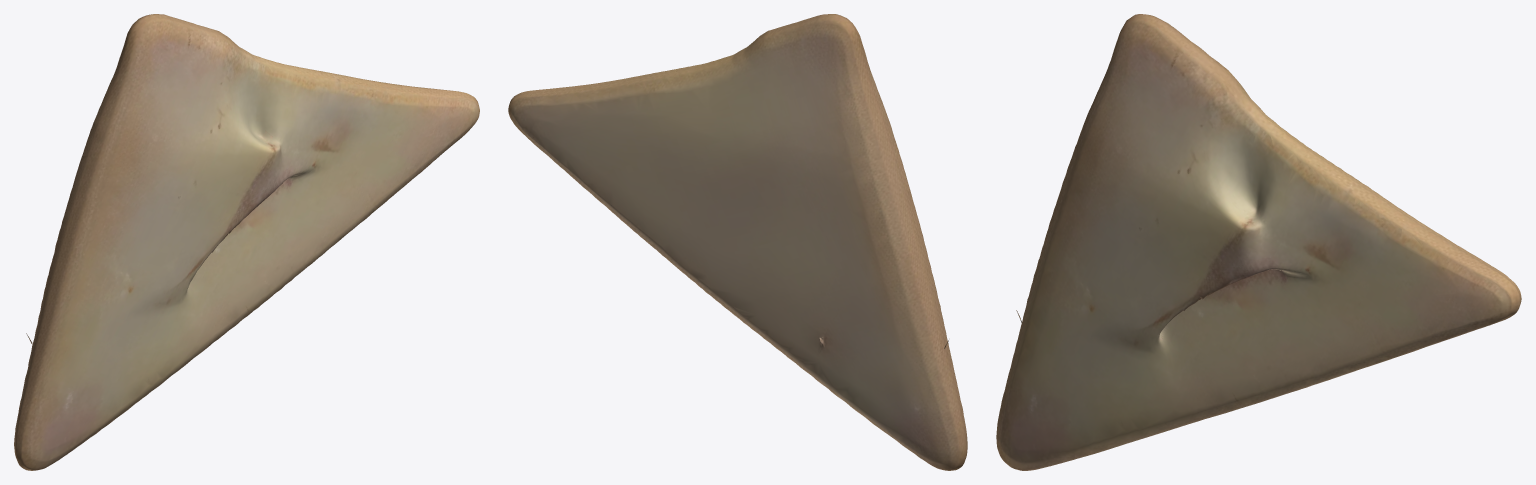
File: dog-scapula.glb
3 renders of one model, left to right at view 1: azimuth 30°, elevation 25°; view 2: azimuth 150°, elevation 25°; view 3: azimuth 330°, elevation 25°, orthographic. The views are drawn at different scales.
Parts seen in each view (by area): view 1: model; view 2: model; view 3: model.
Boxes of the visible parts, x1,y1,x2,y2 form: model: [14, 14, 479, 470]; model: [508, 14, 967, 470]; model: [996, 14, 1521, 470].
Bounding box in the file's own units: 1.9 × 1.69 × 0.2794.
Materials: 1 (1 with a texture image).
